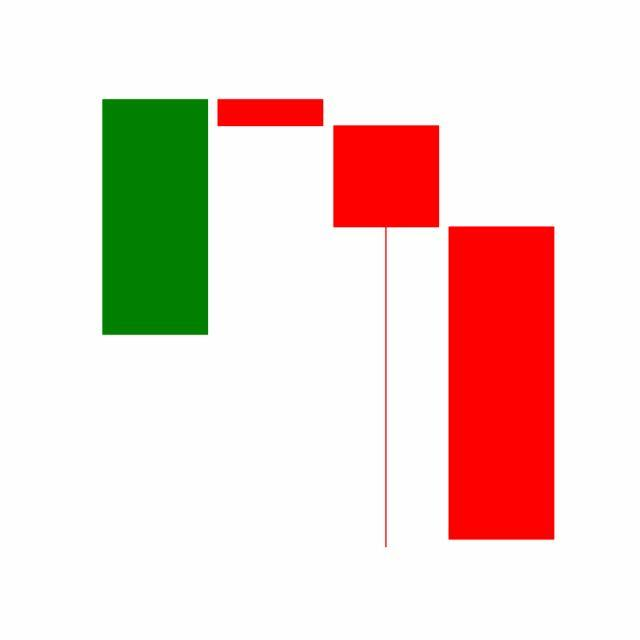Hammer: (329, 121, 445, 553)
